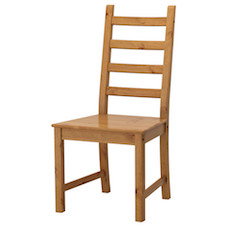chair: (32, 2, 203, 217)
